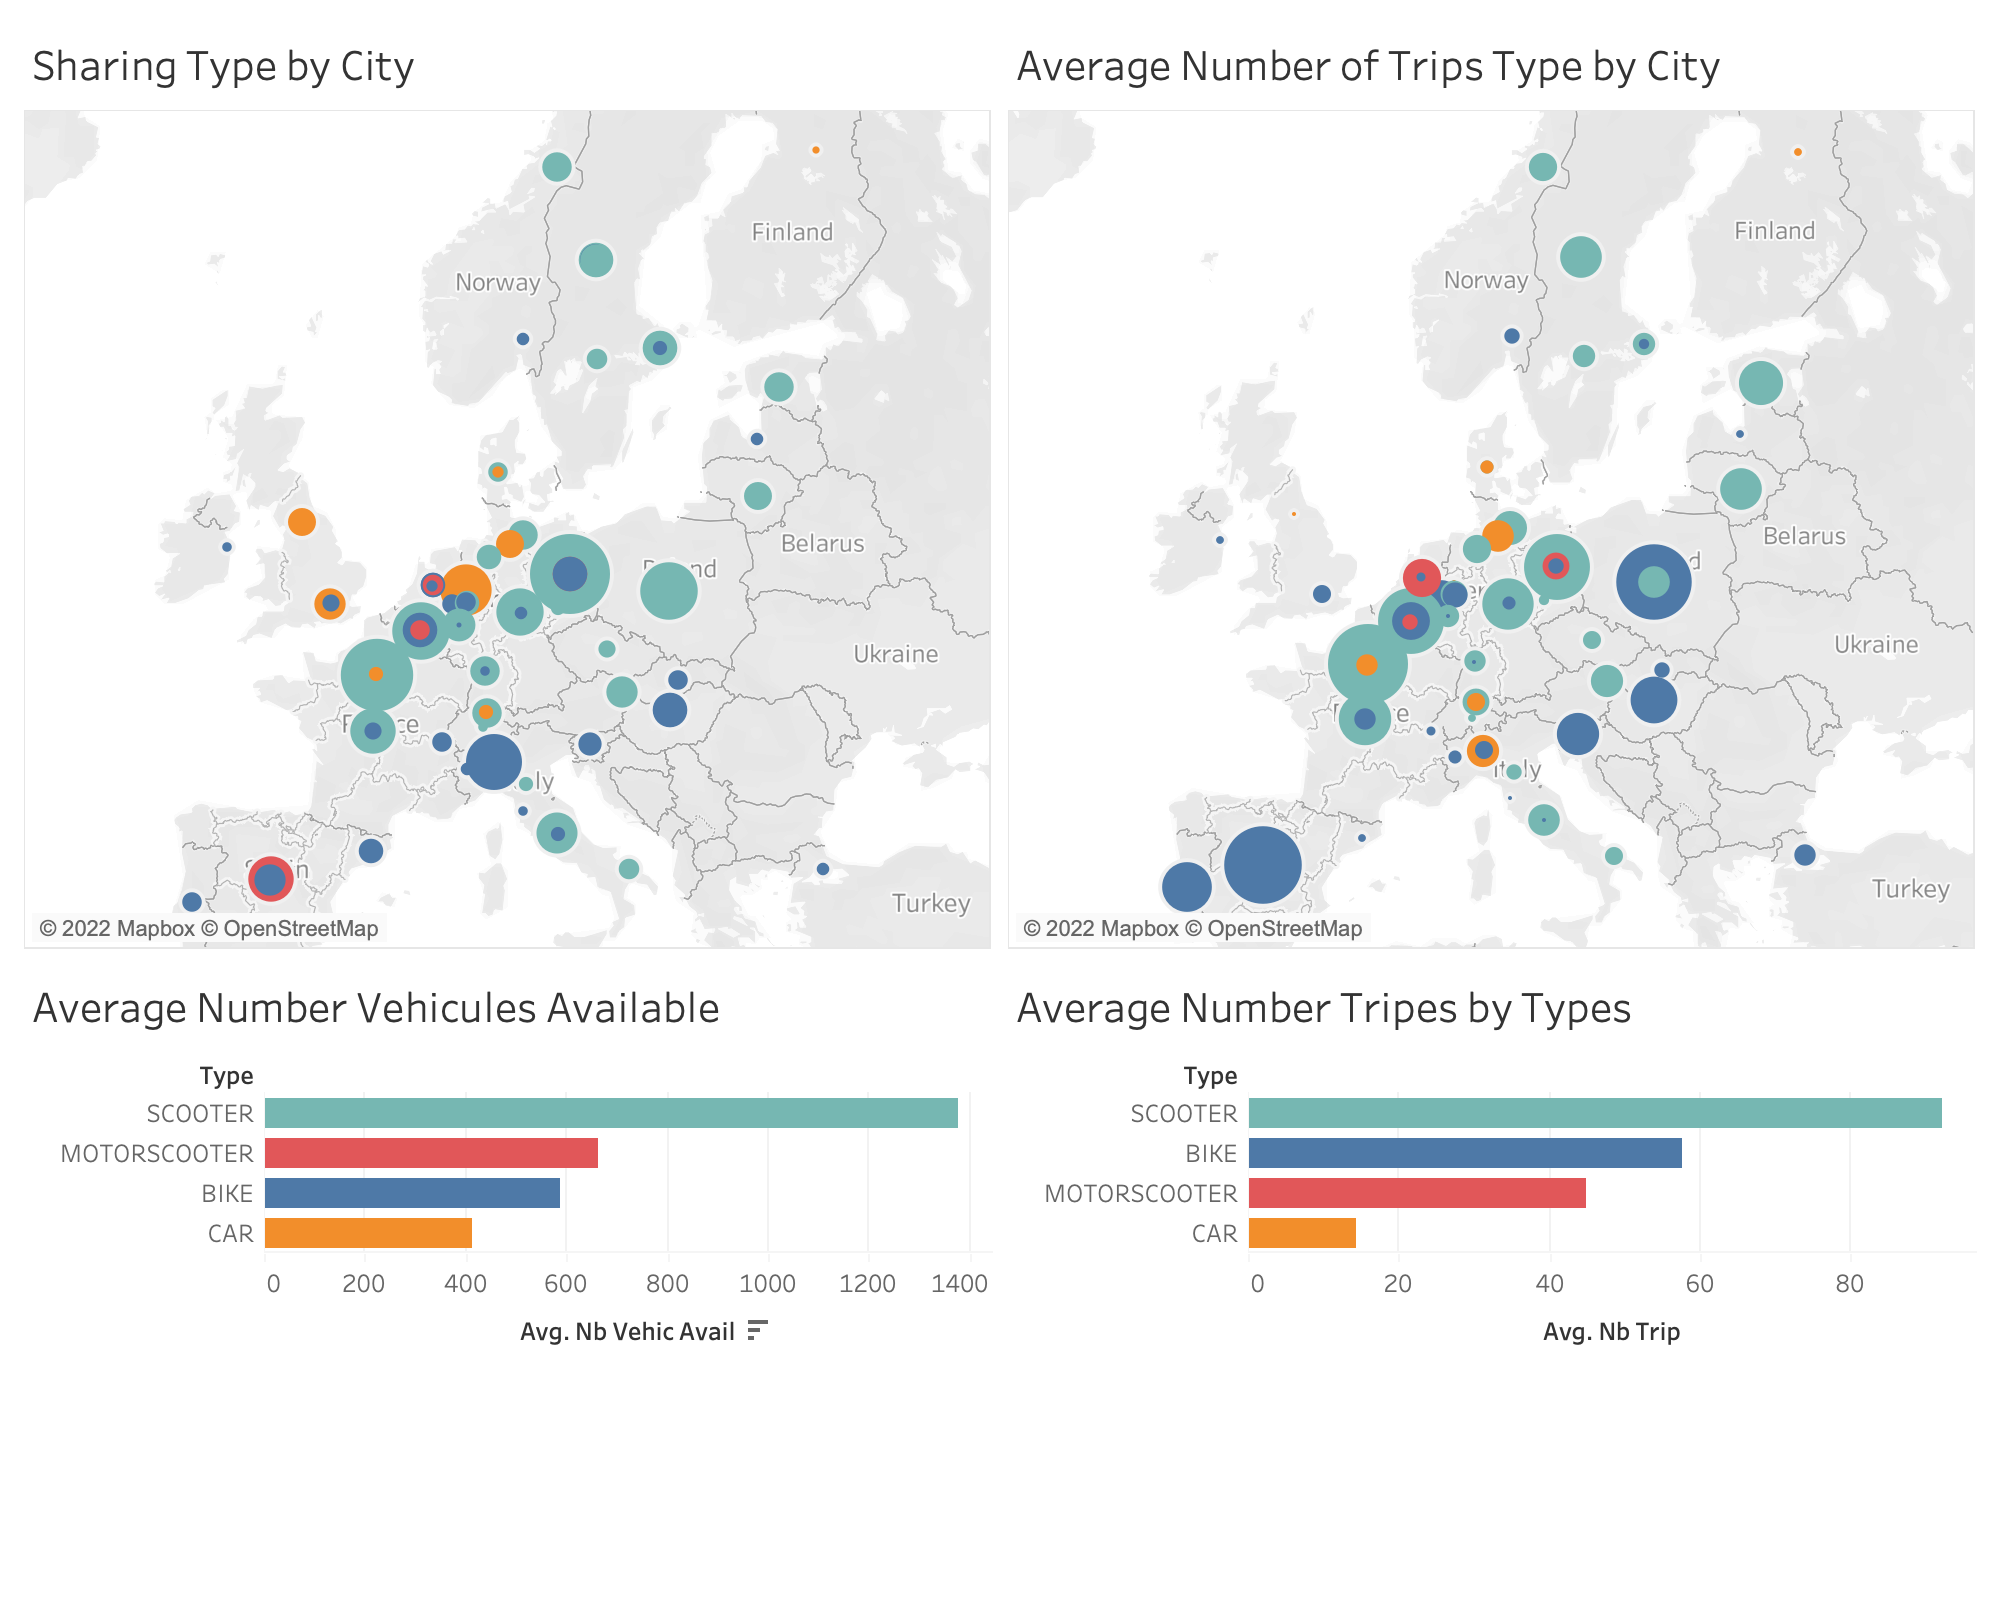

Layout of this report page (visuals, bound fields, positions):
{"tool":"tableau","page":{"name":"Dashboard 3","canvas":[1000,800],"ordinal":2},"visuals":[{"type":"worksheet","title":"Sharing Type by City","mark":"Automatic","box":[8,8,492,471]},{"type":"worksheet","title":"Average Number of Trips Type by City","mark":"Automatic","box":[500,8,492,471]},{"type":"worksheet","title":"Average Number Vehicules Available","mark":"Automatic","rows":["type"],"cols":["nb_vehic_avail"],"box":[8,479,492,313]},{"type":"worksheet","title":"Average Number Tripes by Types","mark":"Automatic","rows":["type"],"cols":["nb_trip"],"box":[500,479,492,313]}]}

Visuals, with their boxes in screenshot pixels (x1, y1, x2, y2), scaled from the page's 1000x800 canvas onto the 2000x1600 screenshot:
"Sharing Type by City" worksheet: detection(16, 16, 1000, 958)
"Average Number of Trips Type by City" worksheet: detection(1000, 16, 1984, 958)
"Average Number Vehicules Available" worksheet: detection(16, 958, 1000, 1584)
"Average Number Tripes by Types" worksheet: detection(1000, 958, 1984, 1584)
